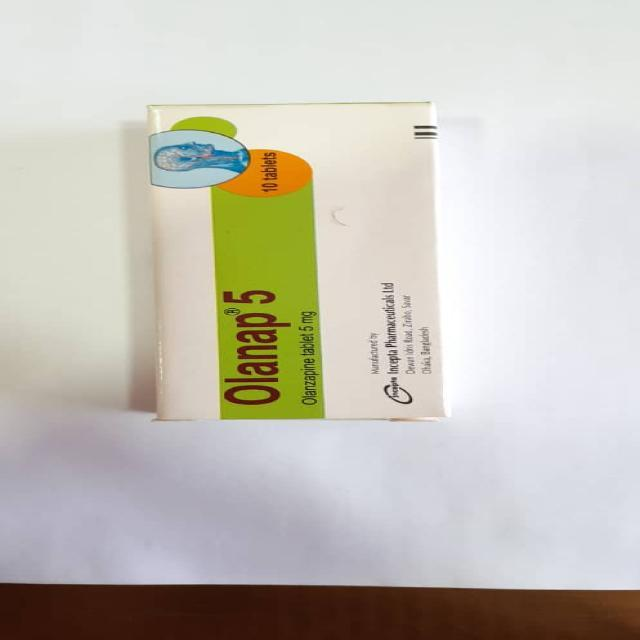drug-name: (217, 282, 286, 408)
